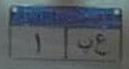1: (33, 31, 42, 52)
ain: (94, 32, 107, 56)
baa: (77, 39, 93, 51)
